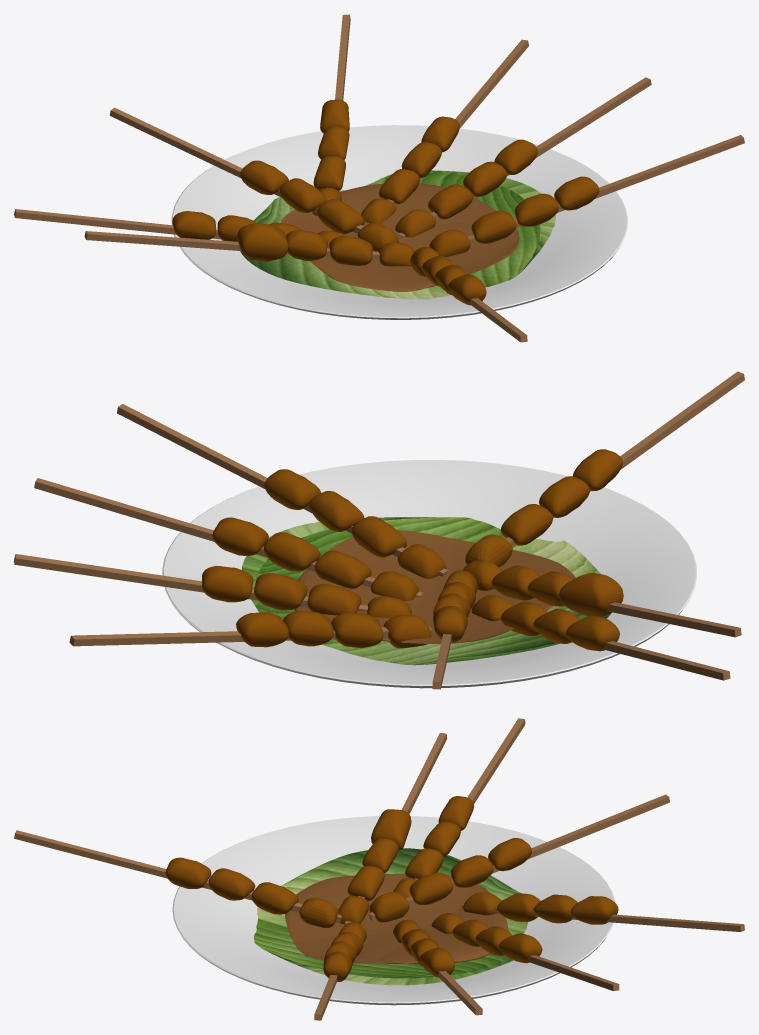
Rendered from sate_makanan_khas_indonesia.glb.
3 renders of one model, top to bottom at view 1: azimuth 30°, elevation 25°; view 2: azimuth 150°, elevation 25°; view 3: azimuth 270°, elevation 25°, orthographic. The views are drawn at different scales.
Visible parts, largest first — view 1: Piring_0, Cylinder.001_43, Cylinder.003_7, Cube.006_18, Sphere.036_27, Cube.007_23, Cube.008_28, Cube.001_38, Cube.003_2, Sphere.004_42, Sphere.002_40, Cube.004_8 (+25 smaller); view 2: Piring_0, Cylinder.003_7, Cylinder.001_43, Cube.004_8, Cube.003_2, Cube.006_18, Cube.005_13, Sphere.036_27, Cube.009_33, Sphere.020_6, Sphere.024_12, Sphere.019_5 (+28 smaller); view 3: Piring_0, Cylinder.001_43, Cylinder.003_7, Cube.009_33, Cube.001_38, Cube.005_13, Sphere.042_35, Sphere.036_27, Sphere.044_37, Sphere.043_36, Sphere.002_40, Sphere.028_17 (+22 smaller).
Boxes of the visible parts, x1,y1,x2,y2 form: Piring_0: (171, 125, 627, 319); Cylinder.001_43: (280, 183, 519, 291); Cylinder.003_7: (240, 170, 555, 299); Cube.006_18: (467, 135, 744, 245); Sphere.036_27: (237, 223, 288, 261); Cube.007_23: (84, 231, 379, 260); Cube.008_28: (14, 209, 220, 239); Cube.001_38: (109, 107, 363, 233); Cube.003_2: (397, 77, 651, 237); Sphere.004_42: (240, 160, 288, 194); Sphere.002_40: (317, 199, 364, 234); Cube.004_8: (387, 39, 528, 203); Piring_0: (162, 460, 697, 688); Cylinder.003_7: (241, 517, 611, 665); Cylinder.001_43: (294, 530, 575, 643); Cube.004_8: (14, 554, 367, 611); Cube.003_2: (34, 478, 422, 596); Cube.006_18: (117, 404, 448, 576); Cube.005_13: (69, 626, 432, 646); Sphere.036_27: (559, 573, 623, 616); Cube.009_33: (506, 371, 744, 547); Sphere.020_6: (212, 517, 268, 555); Sphere.024_12: (202, 566, 253, 602); Sphere.019_5: (263, 532, 320, 571); Piring_0: (172, 816, 615, 1005); Cylinder.001_43: (285, 873, 508, 963); Cylinder.003_7: (253, 848, 528, 985); Cube.009_33: (14, 830, 341, 923); Cube.001_38: (368, 794, 669, 921); Cube.005_13: (461, 904, 744, 931); Sphere.042_35: (251, 882, 298, 914); Sphere.036_27: (371, 809, 411, 850); Sphere.044_37: (165, 857, 211, 888); Sphere.043_36: (208, 868, 255, 900); Sphere.002_40: (409, 872, 453, 904); Sphere.028_17: (570, 896, 618, 924).
Size of the model in its own units: 1.77 by 0.2693 by 1.84.
Materials: 5 (1 with a texture image).
